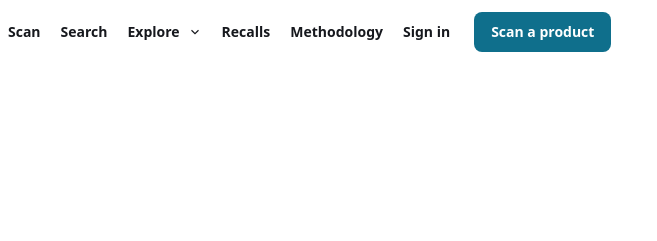
it: PrimaryNav — Explore browse destinations (Requirement 1.4) › surfaces Products, Ingredients, Additives, Compare and Countries with correct hrefs
What coordinates should you click on to do the following:
click the button "Explore"
I would click on:
 (165, 32)
Its box is [120, 14, 210, 50].
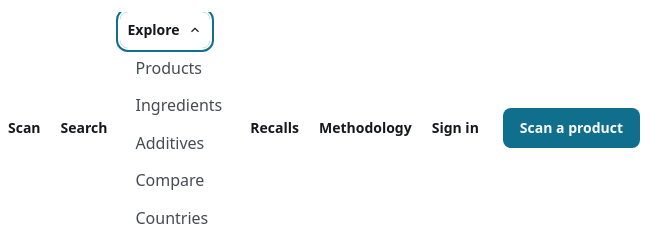
Expected: the button "Explore" is expanded, [120, 12, 210, 48]
